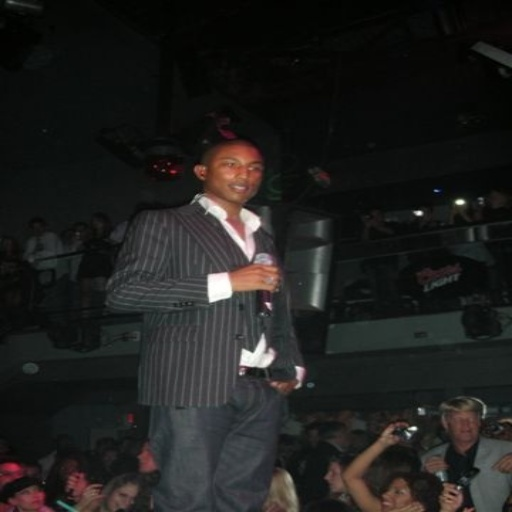hand: (231, 252, 284, 297), (374, 419, 409, 448), (439, 480, 463, 510), (65, 470, 88, 498), (79, 482, 105, 505), (422, 454, 448, 476), (270, 377, 298, 396), (385, 499, 425, 510), (490, 451, 509, 473)
